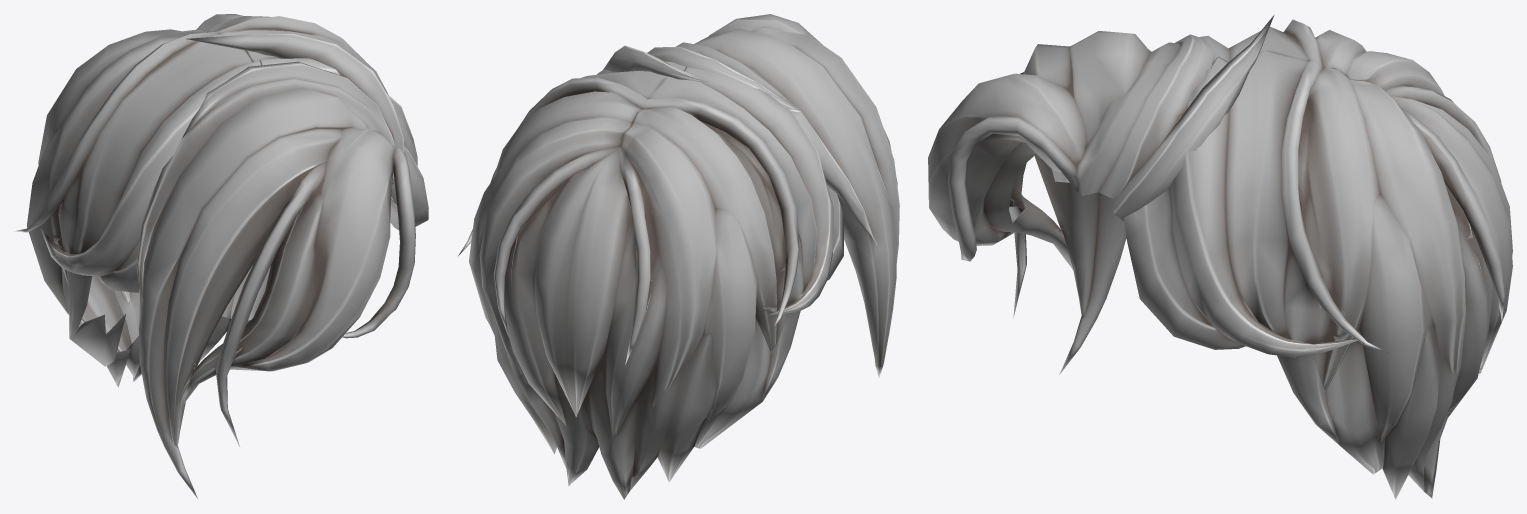
File: hair9.fbx
The picture shows the model from 3 angles, left to right: view 1: azimuth 30°, elevation 25°; view 2: azimuth 150°, elevation 25°; view 3: azimuth 270°, elevation 25°; orthographic projection. The views are drawn at different scales.
Parts seen in each view (by area): view 1: hair9; view 2: hair9; view 3: hair9.
Boxes of the visible parts, x1,y1,x2,y2 form: hair9: (14, 14, 428, 498); hair9: (458, 14, 899, 499); hair9: (928, 14, 1512, 499).
Size of the model in its own units: 16.7 by 18.97 by 22.76.
Materials: 1 (1 with a texture image).
